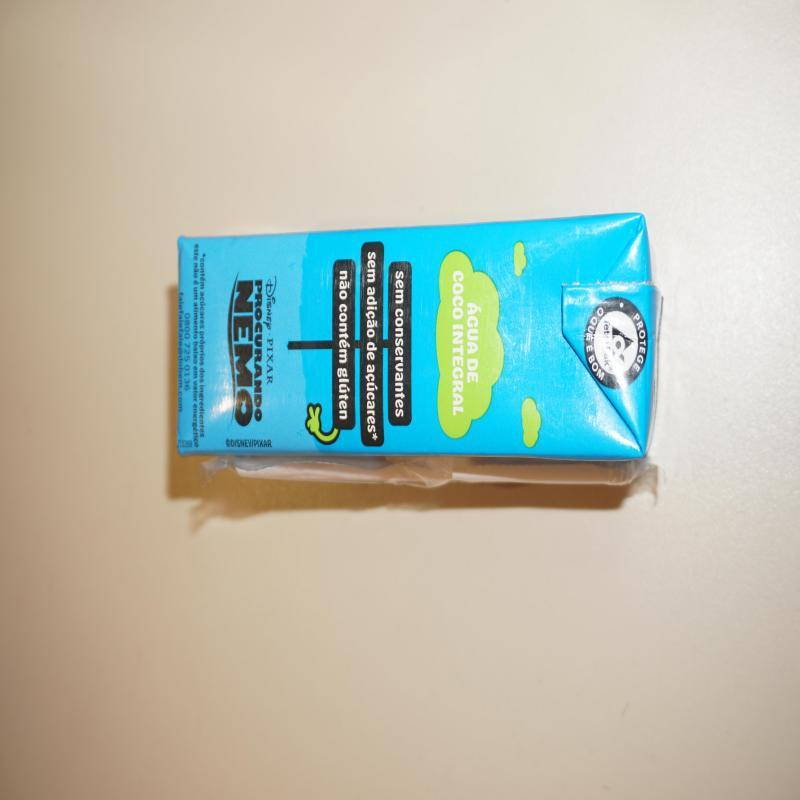CoconutWater: (173, 212, 660, 488)
